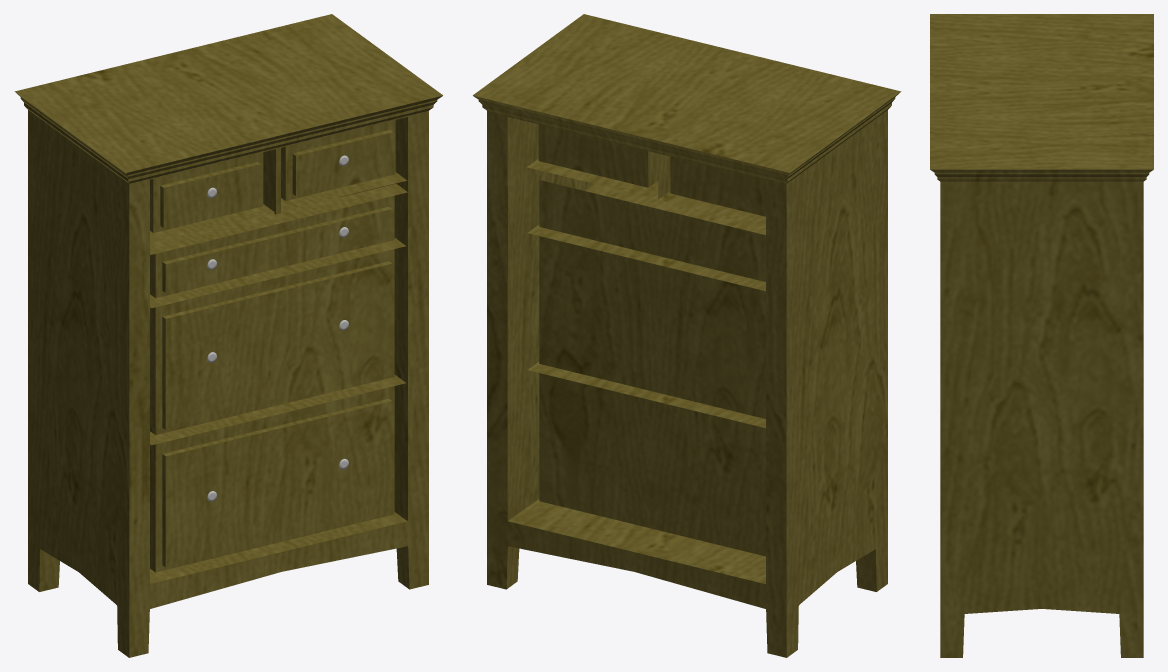
File: smallbox.glb
3 renders of one model, left to right at view 1: azimuth 30°, elevation 25°; view 2: azimuth 150°, elevation 25°; view 3: azimuth 270°, elevation 25°, orthographic.
Parts seen in each view (by area): view 1: wood_obj, handle_obj; view 2: wood_obj; view 3: wood_obj.
Part boxes in pixels (x1,y1,x2,y2): wood_obj: (14, 14, 442, 657); handle_obj: (207, 155, 348, 501); wood_obj: (473, 14, 901, 657); wood_obj: (930, 14, 1153, 657).
Size of the model in its own units: 0.000826 by 0.00122 by 0.000502.
2 materials, 1 textured.
